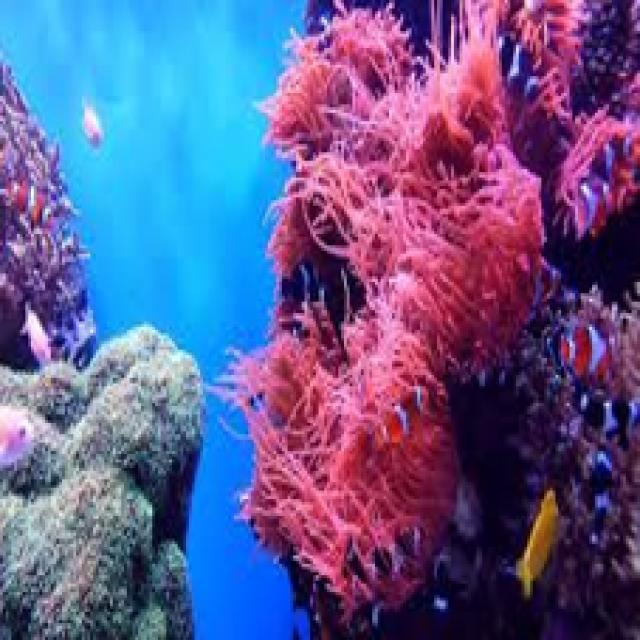Healthy: (1, 340, 201, 639), (250, 344, 456, 608), (356, 184, 547, 371), (277, 16, 395, 268), (389, 49, 513, 197)
